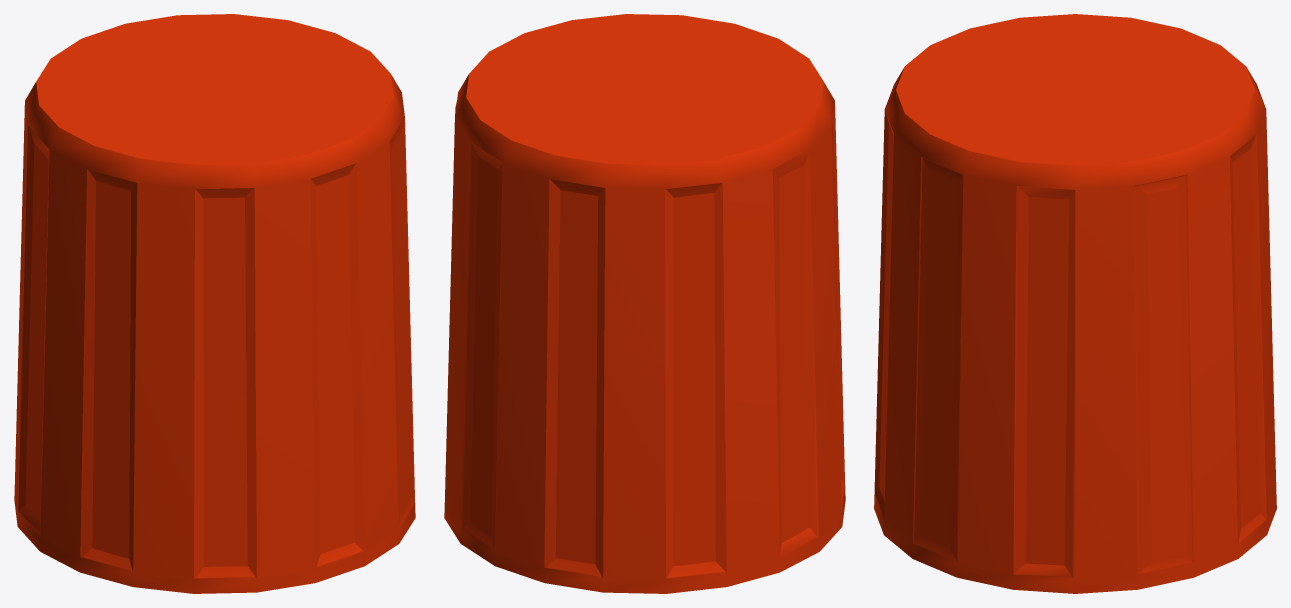
Rendered from Led_Bulb.fbx.
The picture shows the model from 3 angles, left to right: view 1: azimuth 30°, elevation 25°; view 2: azimuth 150°, elevation 25°; view 3: azimuth 270°, elevation 25°; orthographic projection.
Visible parts, largest first — view 1: Led_Bulb; view 2: Led_Bulb; view 3: Led_Bulb.
Part boxes in pixels (left/top/right/bottom): Led_Bulb: left=14, top=14, right=415, bottom=593; Led_Bulb: left=444, top=14, right=845, bottom=593; Led_Bulb: left=874, top=14, right=1276, bottom=593.
Size of the model in its own units: 3.82 by 4.39 by 3.82.
